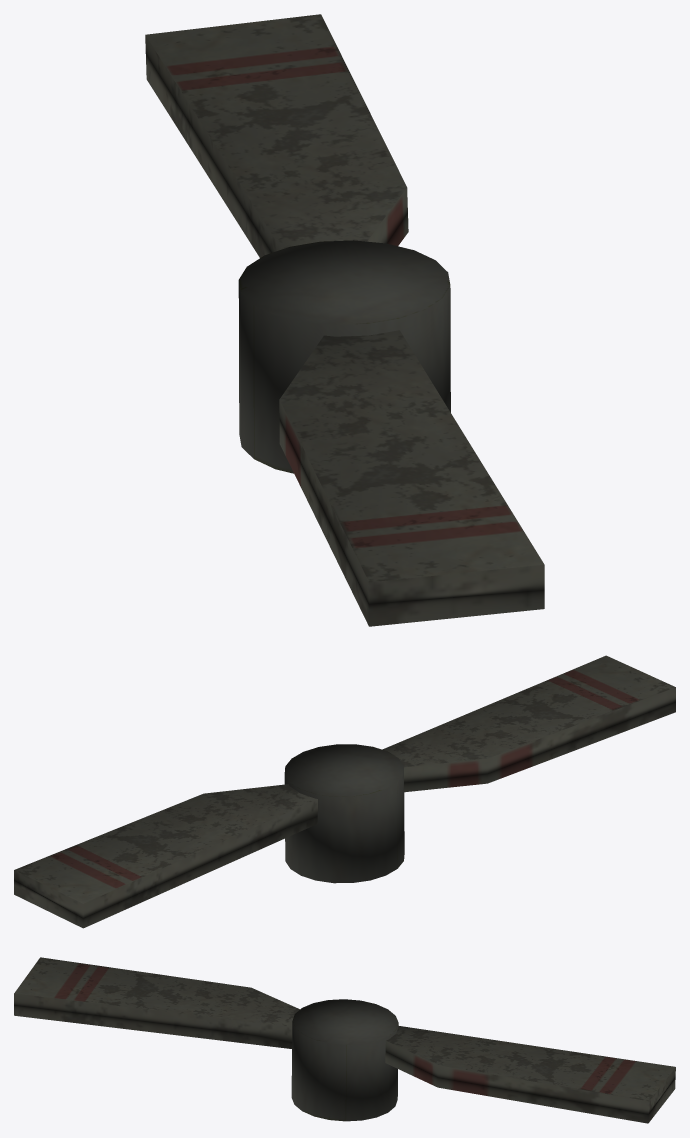
The model's file is Helicopter_Propeller2.fbx.
3 views of the same model, one above another, from view 1: azimuth 30°, elevation 25°; view 2: azimuth 150°, elevation 25°; view 3: azimuth 270°, elevation 25° (orthographic). The views are drawn at different scales.
Visible parts, largest first — view 1: BackBlade; view 2: BackBlade; view 3: BackBlade.
Part boxes in pixels (x1,y1,x2,y2): BackBlade: [145, 14, 544, 626]; BackBlade: [14, 655, 675, 928]; BackBlade: [14, 957, 675, 1123].
Size of the model in its own units: 4.05 by 1.09 by 8.26.
1 material, 1 textured.
